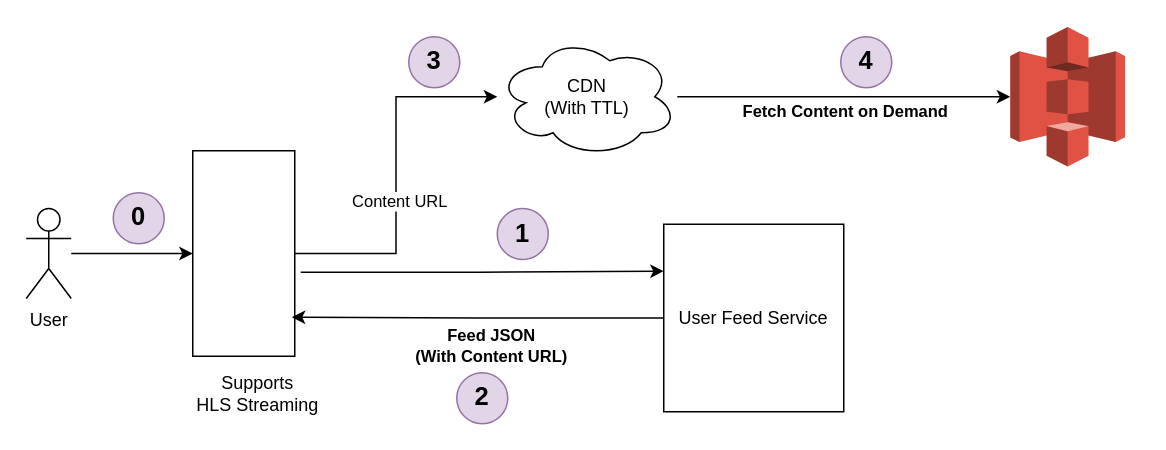
Image size: 1166x450. Some labels were removed from this diagram. Each missing label, with the centre of its shape:
APP: the point at 243,252
Blob Storage (S3): the point at 1067,96
